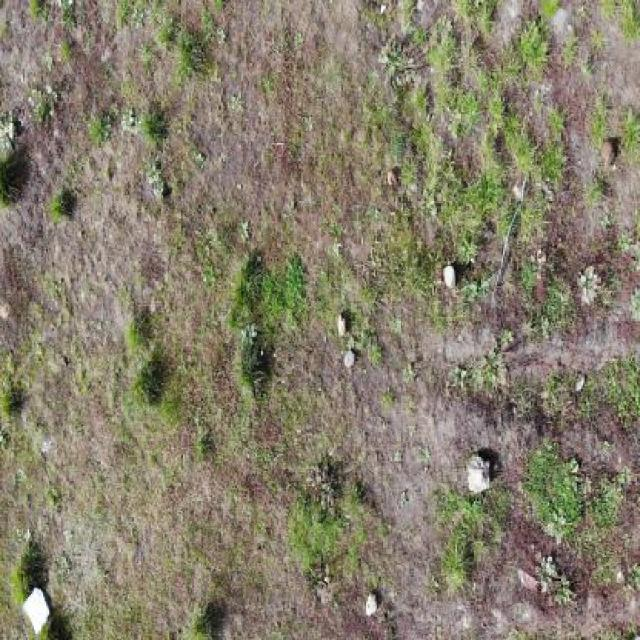Garbage: (22, 589, 50, 636)
